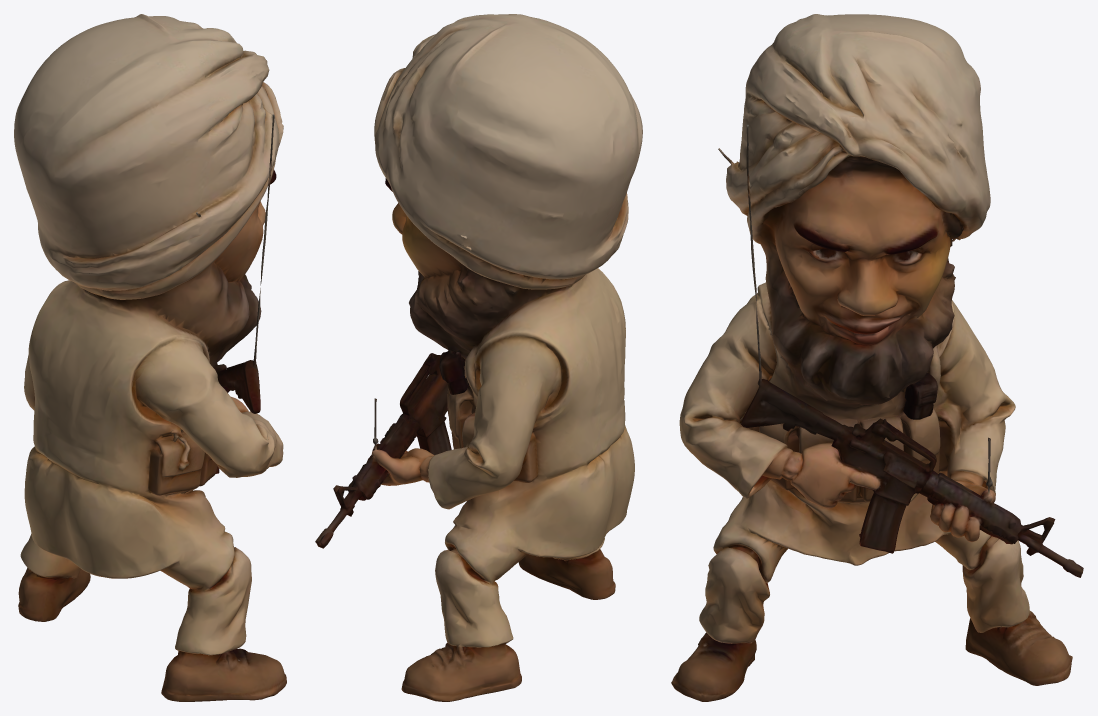
File: TERRORIST_1.glb
The picture shows the model from 3 angles, left to right: view 1: azimuth 30°, elevation 25°; view 2: azimuth 150°, elevation 25°; view 3: azimuth 270°, elevation 25°; orthographic projection. The views are drawn at different scales.
Visible parts, largest first — view 1: tripo_node_1cc9cd04-eb37-4036-a1f5-a25c3ab63996; view 2: tripo_node_1cc9cd04-eb37-4036-a1f5-a25c3ab63996; view 3: tripo_node_1cc9cd04-eb37-4036-a1f5-a25c3ab63996.
Part boxes in pixels (x1,y1,x2,y2): tripo_node_1cc9cd04-eb37-4036-a1f5-a25c3ab63996: (14, 14, 286, 701); tripo_node_1cc9cd04-eb37-4036-a1f5-a25c3ab63996: (315, 14, 642, 701); tripo_node_1cc9cd04-eb37-4036-a1f5-a25c3ab63996: (671, 14, 1083, 701).
Bounding box in the file's own units: 0.4 × 1 × 0.5739.
1 material, 1 textured.
